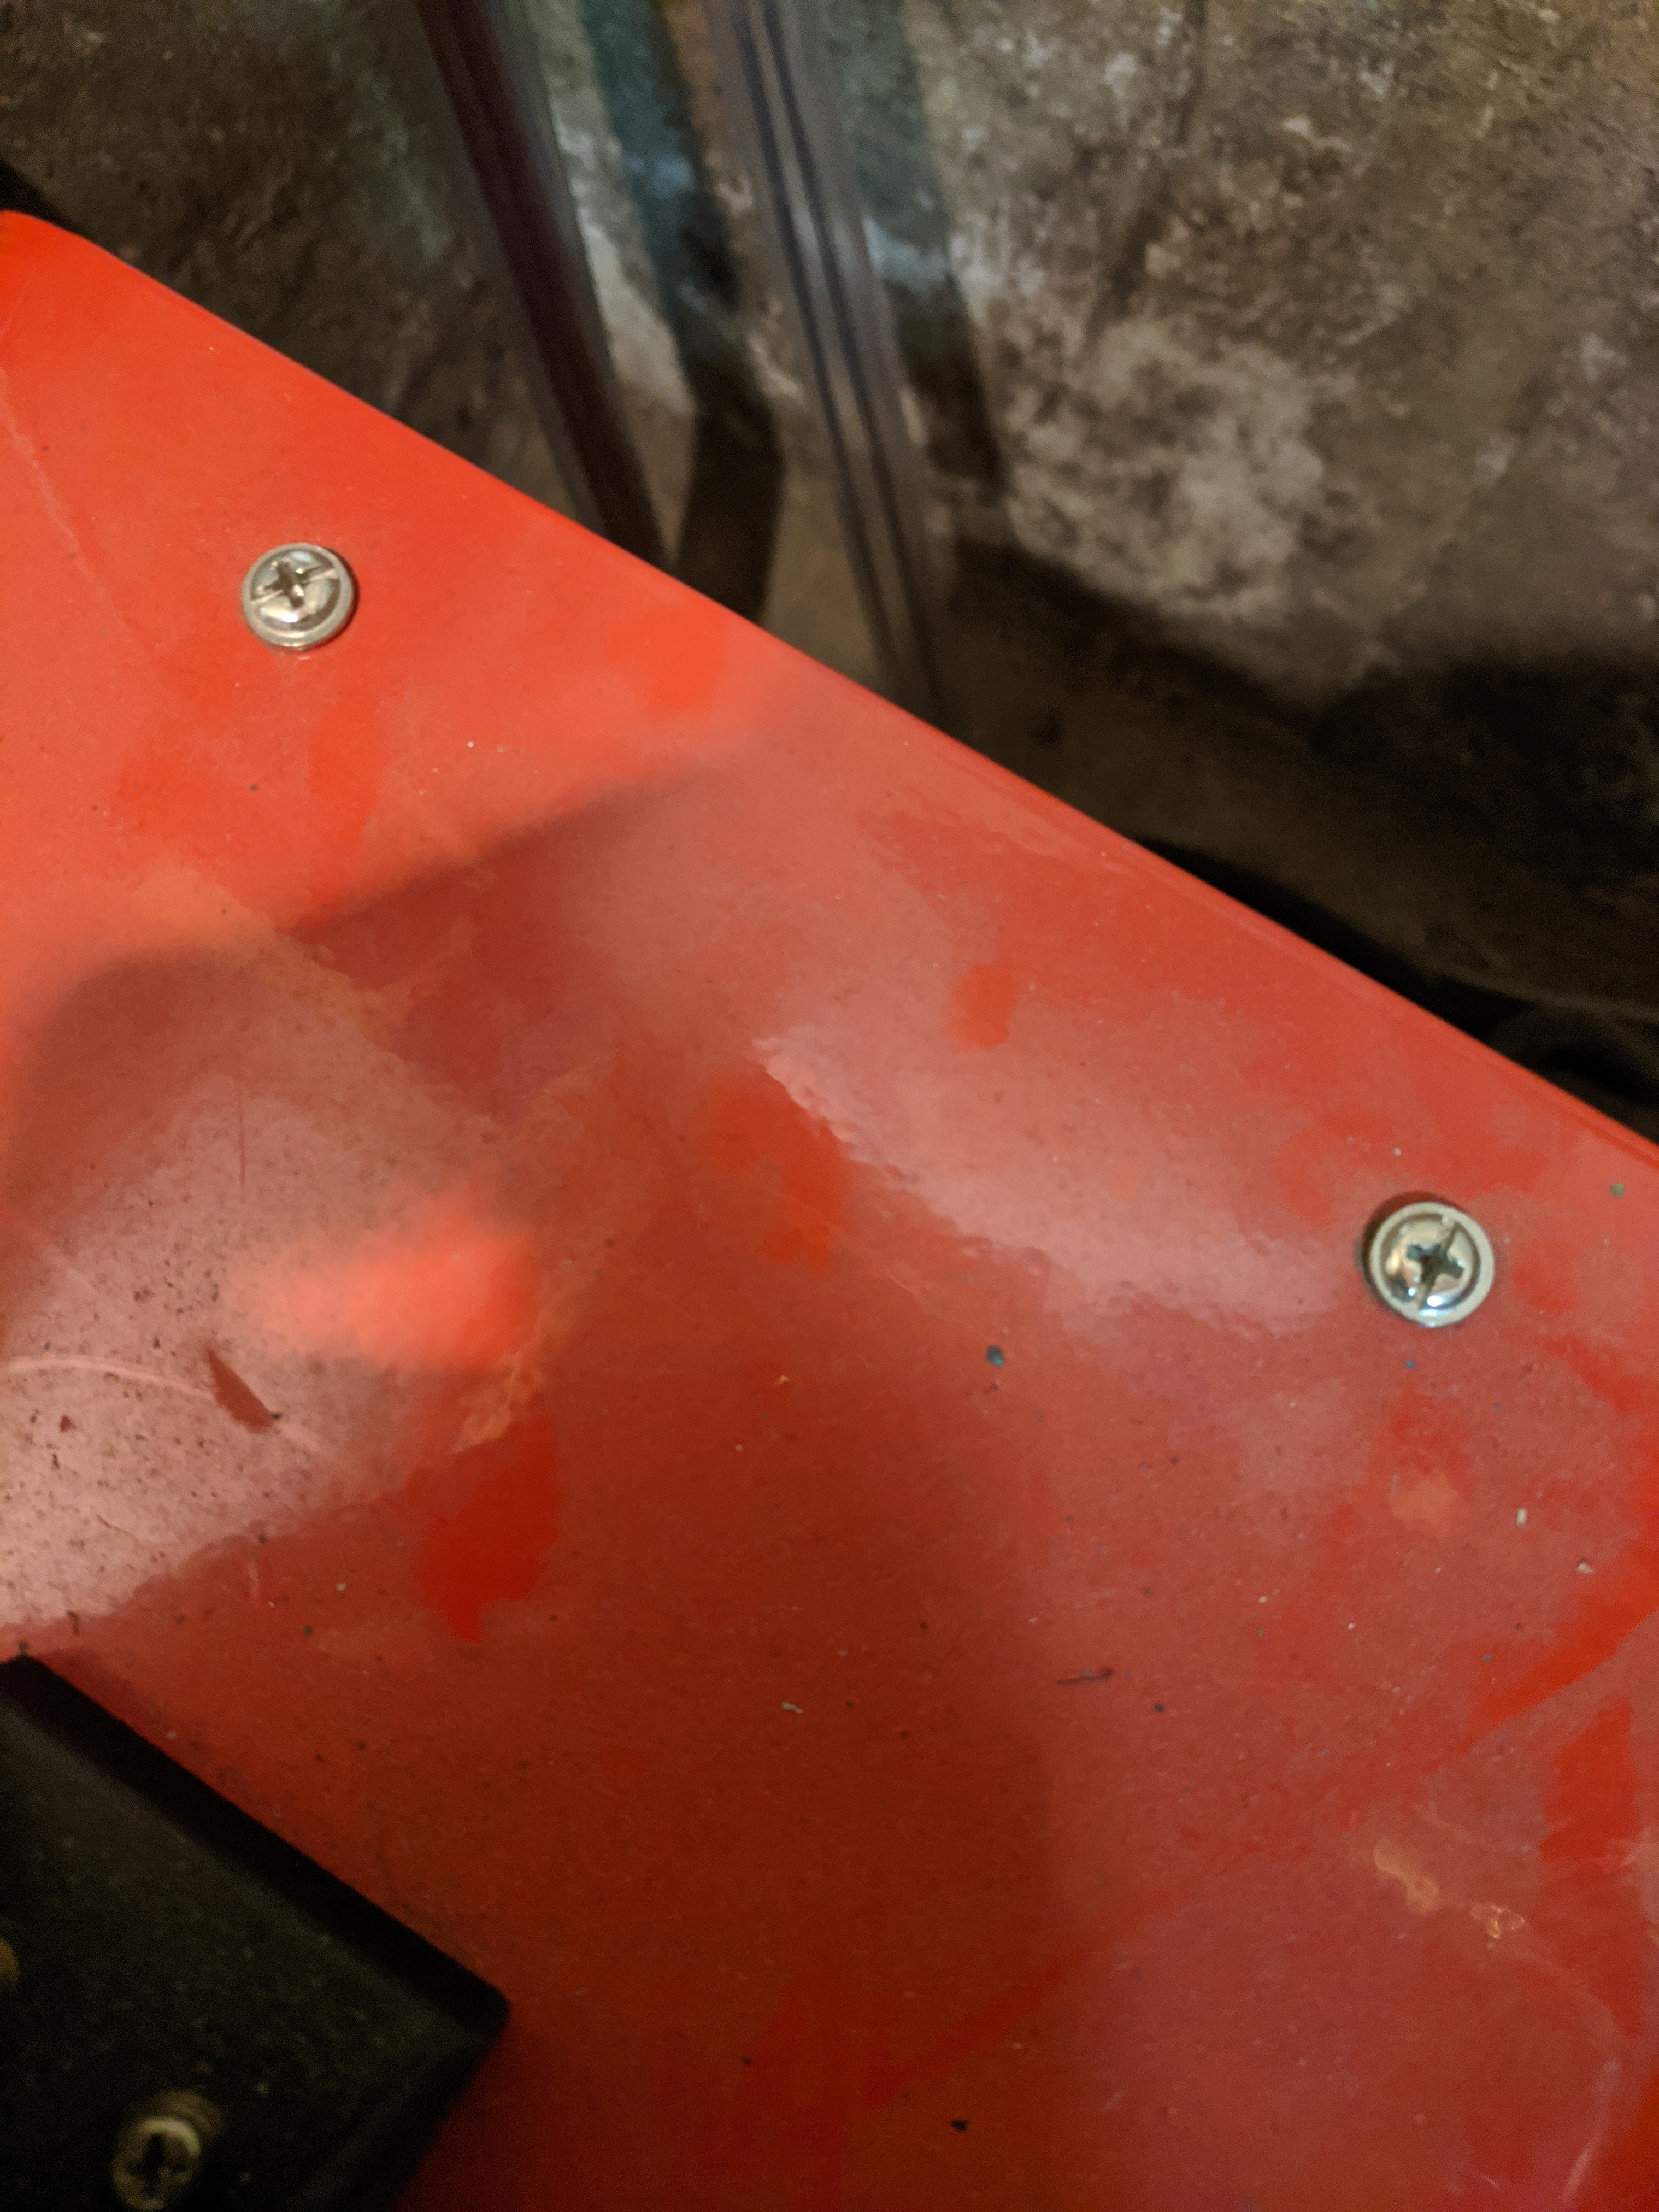cross_recessed_screw: (1361, 1181, 1499, 1331), (230, 528, 340, 639)
